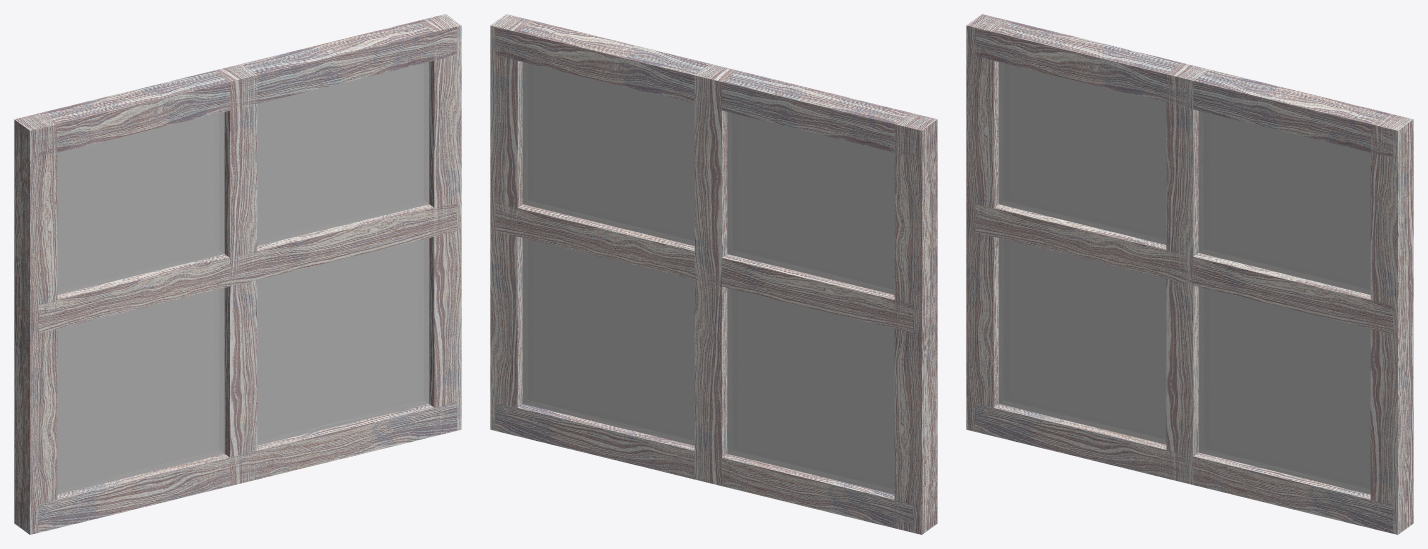
File: Window.obj
3 renders of one model, left to right at view 1: azimuth 30°, elevation 25°; view 2: azimuth 150°, elevation 25°; view 3: azimuth 330°, elevation 25°, orthographic.
Parts seen in each view (by area): view 1: AWindow1, Part6, Part5, Part1, Part3, Part2, Part4; view 2: AWindow1, Part5, Part6, Part2, Part1, Part3, Part4; view 3: AWindow1, Part6, Part4, Part1, Part3, Part2, Part5.
Part boxes in pixels (x1=…): AWindow1: x1=57, y1=62, x2=429, y2=494; Part6: x1=26, y1=15, x2=456, y2=156; Part5: x1=14, y1=113, x2=57, y2=534; Part1: x1=39, y1=202, x2=456, y2=332; Part3: x1=39, y1=402, x2=456, y2=532; Part2: x1=214, y1=64, x2=257, y2=485; Part4: x1=420, y1=14, x2=461, y2=435; AWindow1: x1=522, y1=62, x2=894, y2=494; Part5: x1=894, y1=113, x2=937, y2=534; Part6: x1=495, y1=16, x2=925, y2=156; Part2: x1=694, y1=64, x2=736, y2=485; Part1: x1=495, y1=203, x2=912, y2=332; Part3: x1=495, y1=402, x2=912, y2=532; Part4: x1=490, y1=14, x2=532, y2=435; AWindow1: x1=998, y1=62, x2=1370, y2=494; Part6: x1=975, y1=16, x2=1408, y2=157; Part4: x1=1370, y1=113, x2=1413, y2=534; Part1: x1=975, y1=203, x2=1393, y2=333; Part3: x1=975, y1=403, x2=1393, y2=533; Part2: x1=1166, y1=63, x2=1208, y2=484; Part5: x1=966, y1=14, x2=1008, y2=435.
Size of the model in its own units: 9.5 by 8.5 by 0.6.
